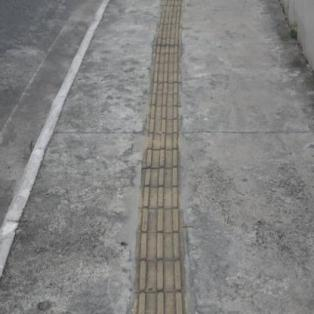Podoctatil: (133, 1, 186, 312)
